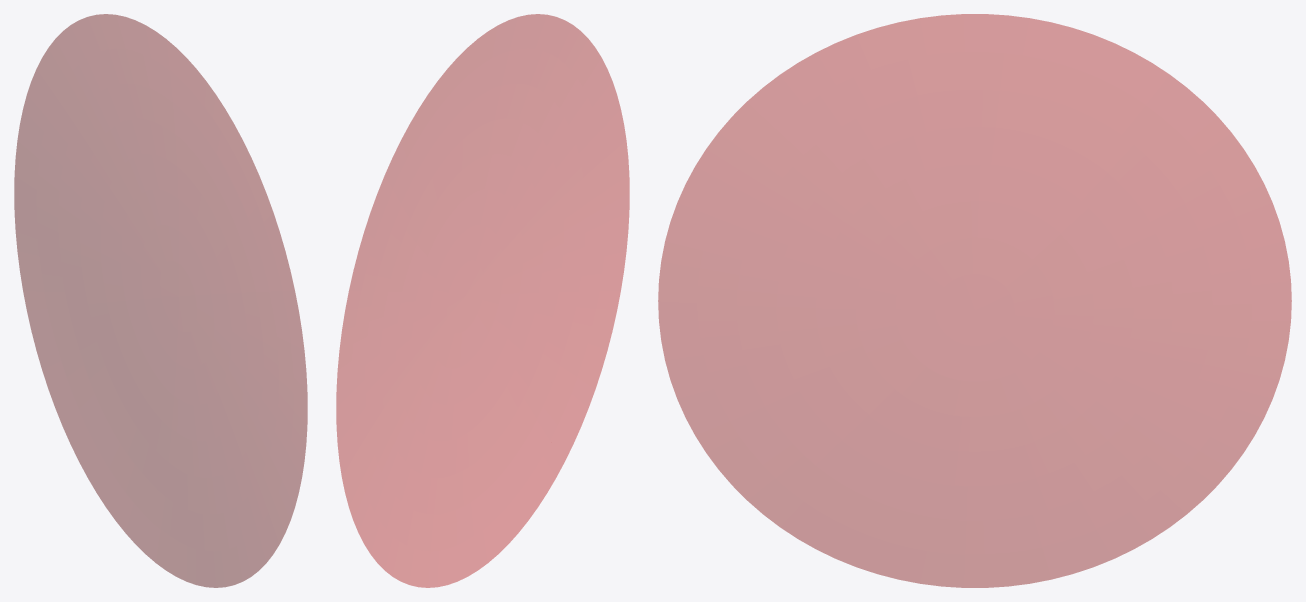
Rendered from onde.glb.
3 renders of one model, left to right at view 1: azimuth 30°, elevation 25°; view 2: azimuth 150°, elevation 25°; view 3: azimuth 270°, elevation 25°, orthographic. The views are drawn at different scales.
Parts seen in each view (by area): view 1: Circle; view 2: Circle; view 3: Circle.
Part boxes in pixels (x1,y1,x2,y2): Circle: (14, 14, 307, 587); Circle: (336, 14, 629, 587); Circle: (658, 14, 1291, 587).
Bounding box in the file's own units: 0.00973 × 0.2782 × 0.2783.
